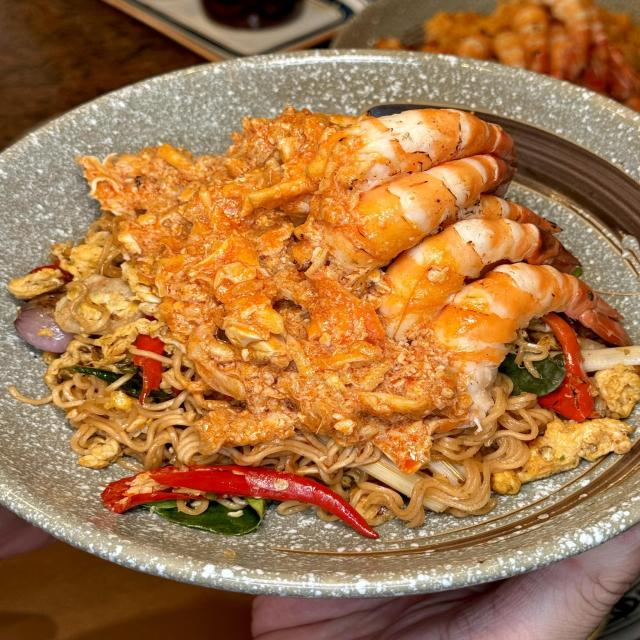carb: (57, 230, 311, 450)
meat: (291, 122, 589, 394)
stir-fried instant noodles: (61, 125, 628, 547)
vegetable: (154, 488, 269, 540)
